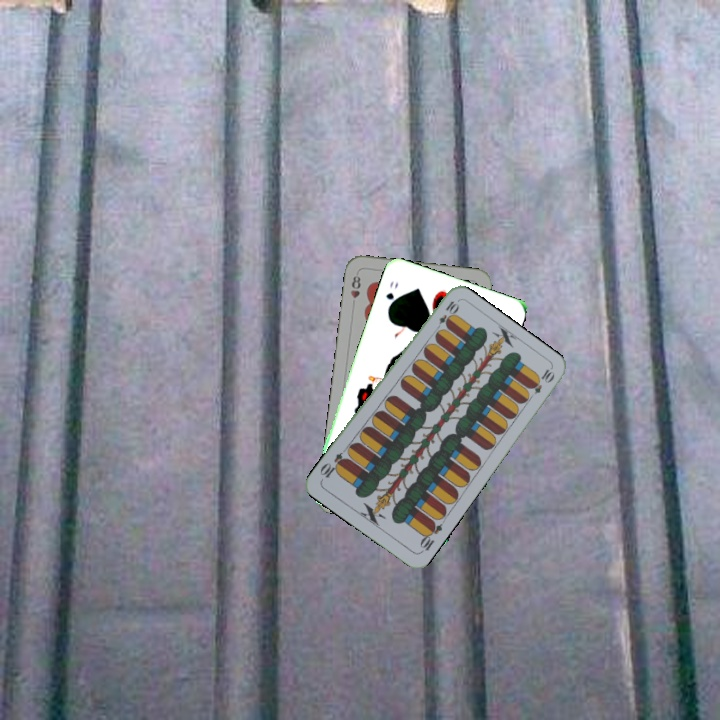E10: (415, 517, 445, 555), (431, 297, 461, 334)
GO: (382, 277, 401, 313)
H8: (347, 271, 363, 310)
